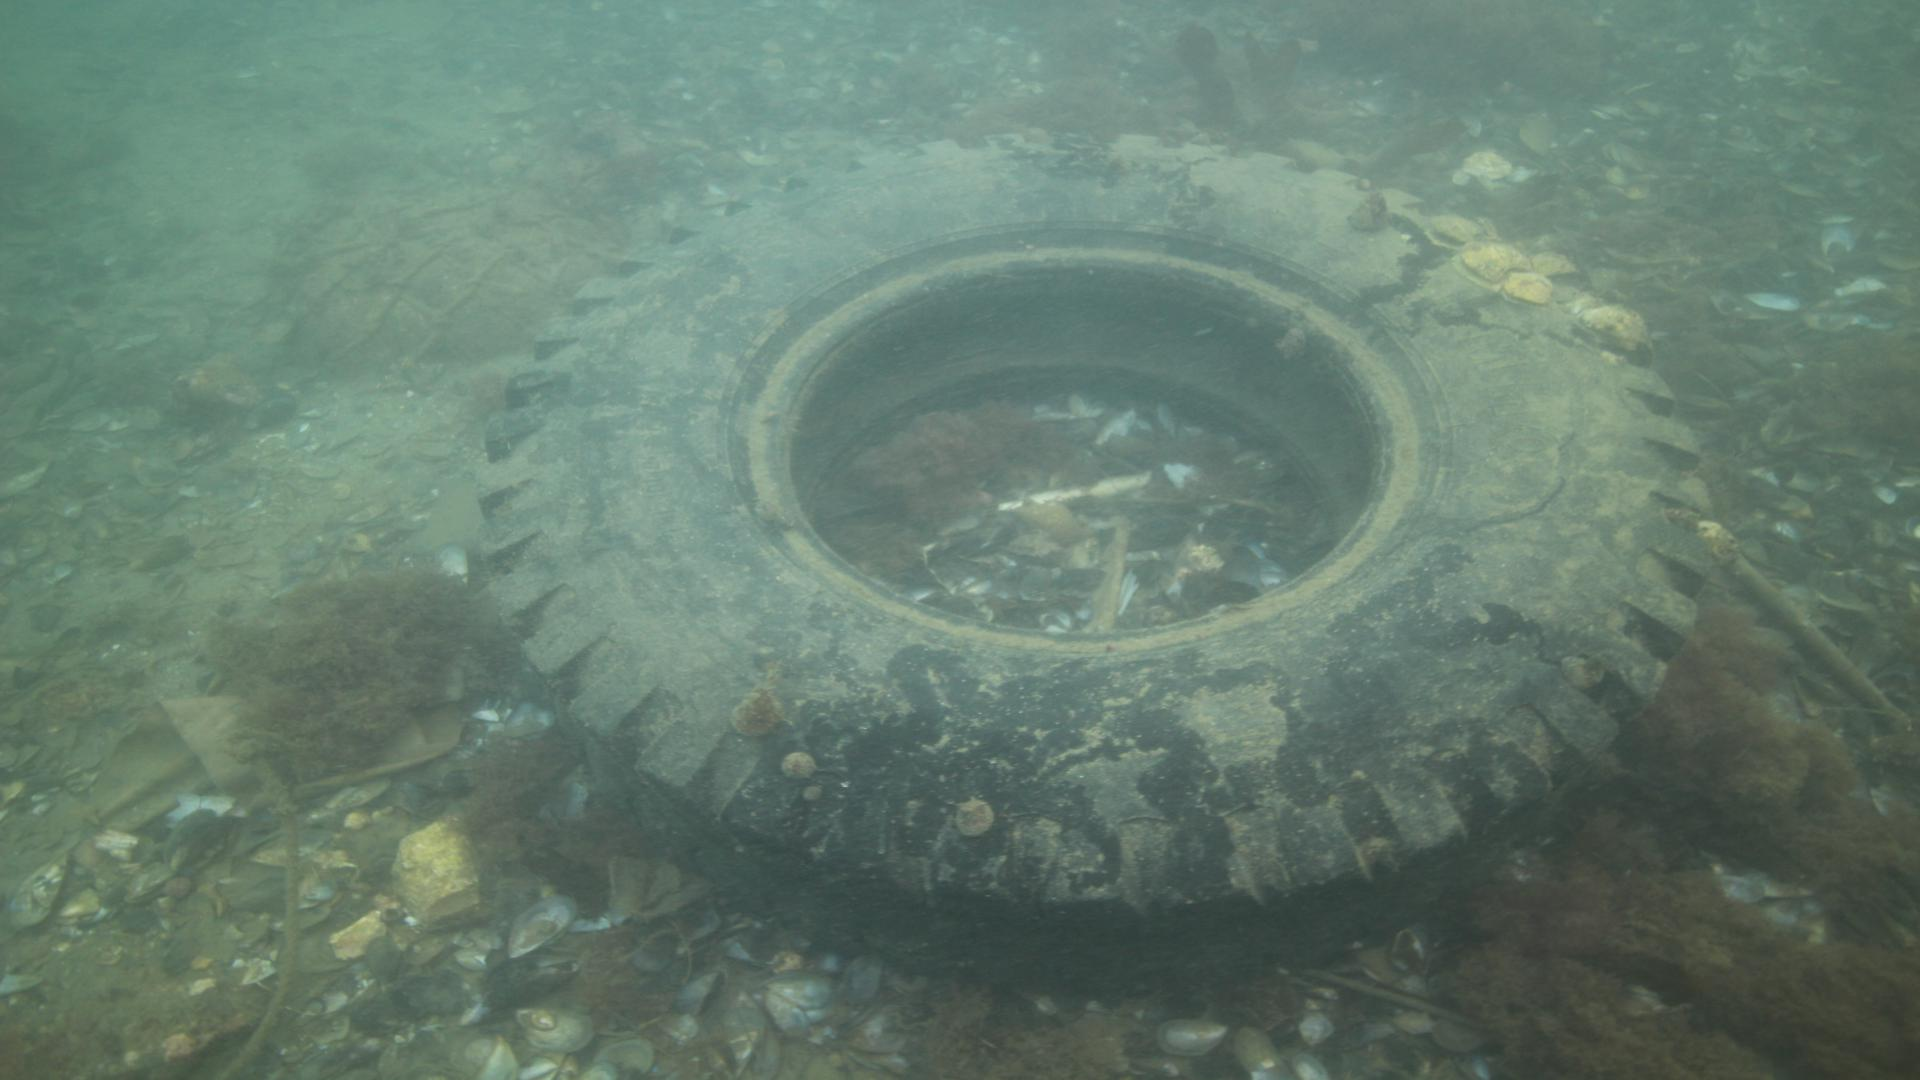tire: (476, 131, 1716, 1000)
